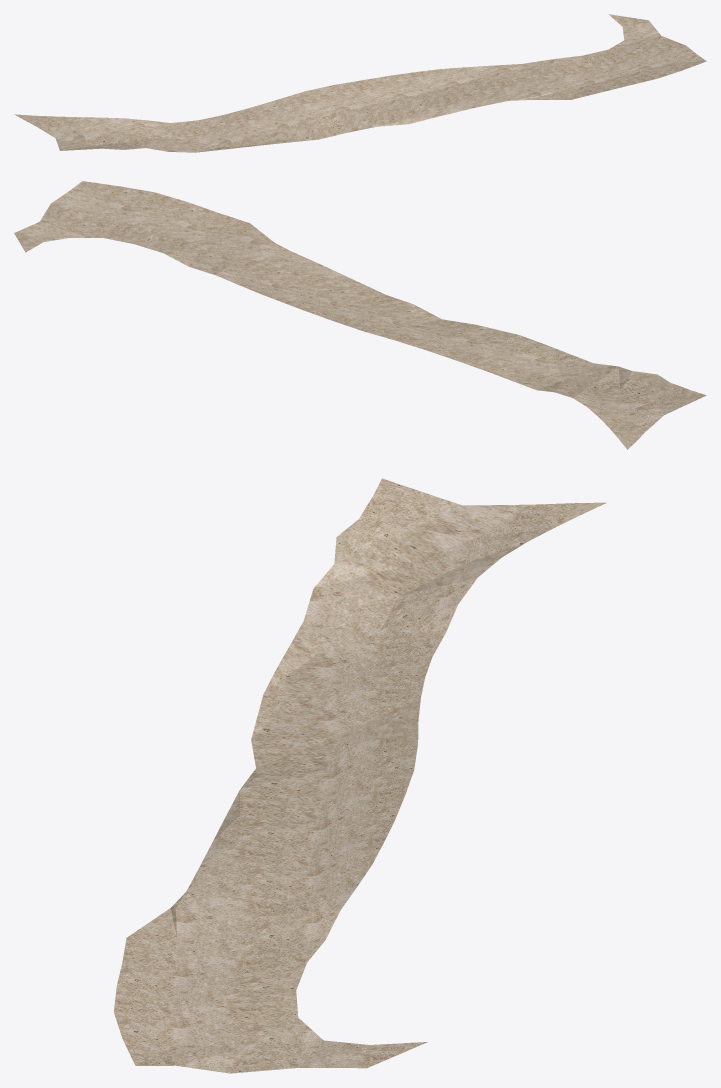
The model's file is c_carisle_mid_seabed_03.fbx.
The picture shows the model from 3 angles, top to bottom: view 1: azimuth 30°, elevation 25°; view 2: azimuth 150°, elevation 25°; view 3: azimuth 270°, elevation 25°; orthographic projection. The views are drawn at different scales.
Visible parts, largest first — view 1: c_carisle_mid_seabed_03; view 2: c_carisle_mid_seabed_03; view 3: c_carisle_mid_seabed_03.
Boxes of the visible parts, bbox=[...] form: c_carisle_mid_seabed_03: bbox=[14, 14, 706, 152]; c_carisle_mid_seabed_03: bbox=[14, 181, 706, 449]; c_carisle_mid_seabed_03: bbox=[114, 478, 606, 1073].
Size of the model in its own units: 43.37 by 15.74 by 1.49.
